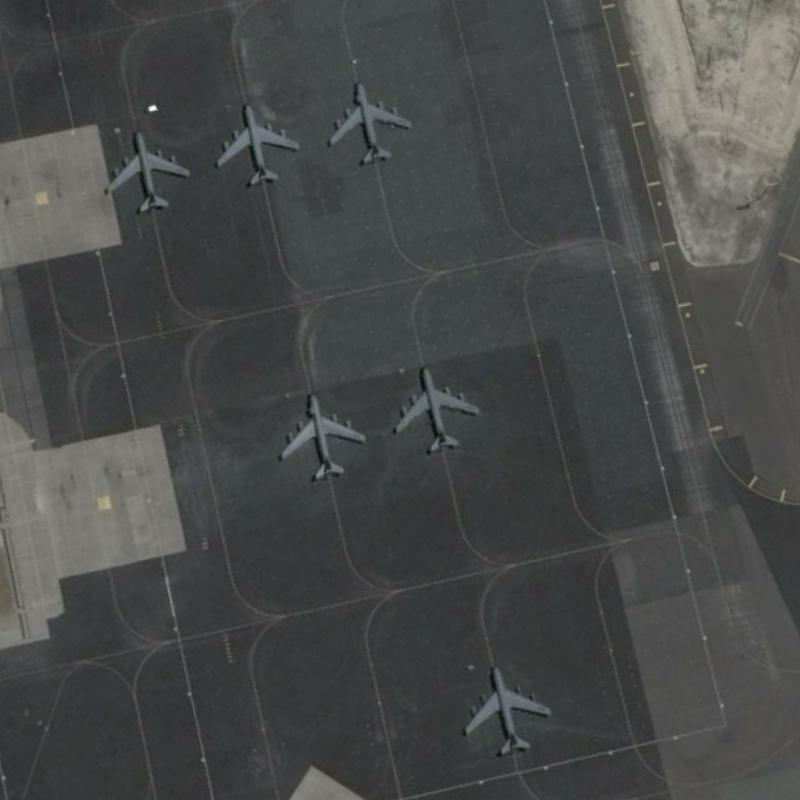A14: (459, 660, 552, 758), (390, 362, 481, 457), (277, 389, 368, 483), (324, 77, 414, 167), (99, 127, 192, 214), (211, 99, 302, 187)
